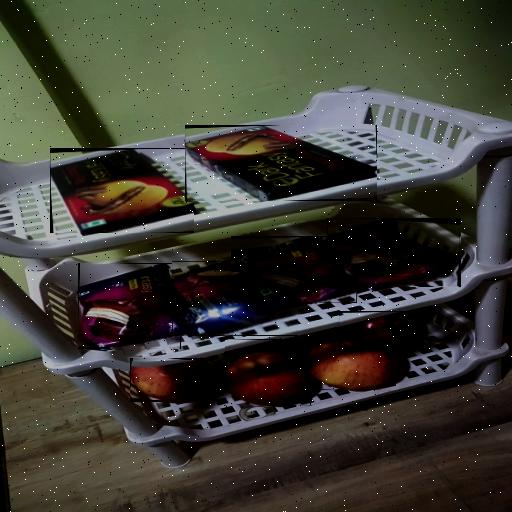Apple: (224, 353, 311, 405), (308, 340, 395, 390), (131, 362, 212, 401), (339, 311, 419, 348), (225, 340, 283, 356)
Choco Fills: (185, 126, 377, 201), (50, 149, 194, 233)
Choco Pie: (172, 261, 298, 336), (328, 219, 460, 286), (79, 264, 181, 348), (231, 237, 357, 303)
